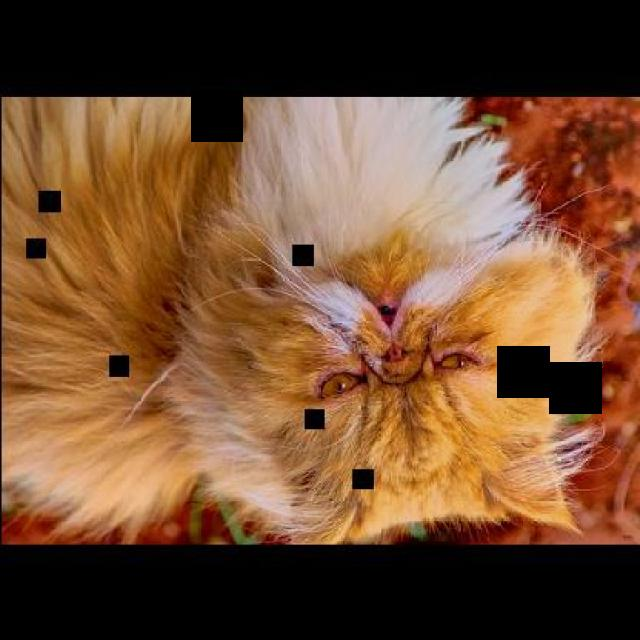unauthorized: (0, 95, 615, 544)
